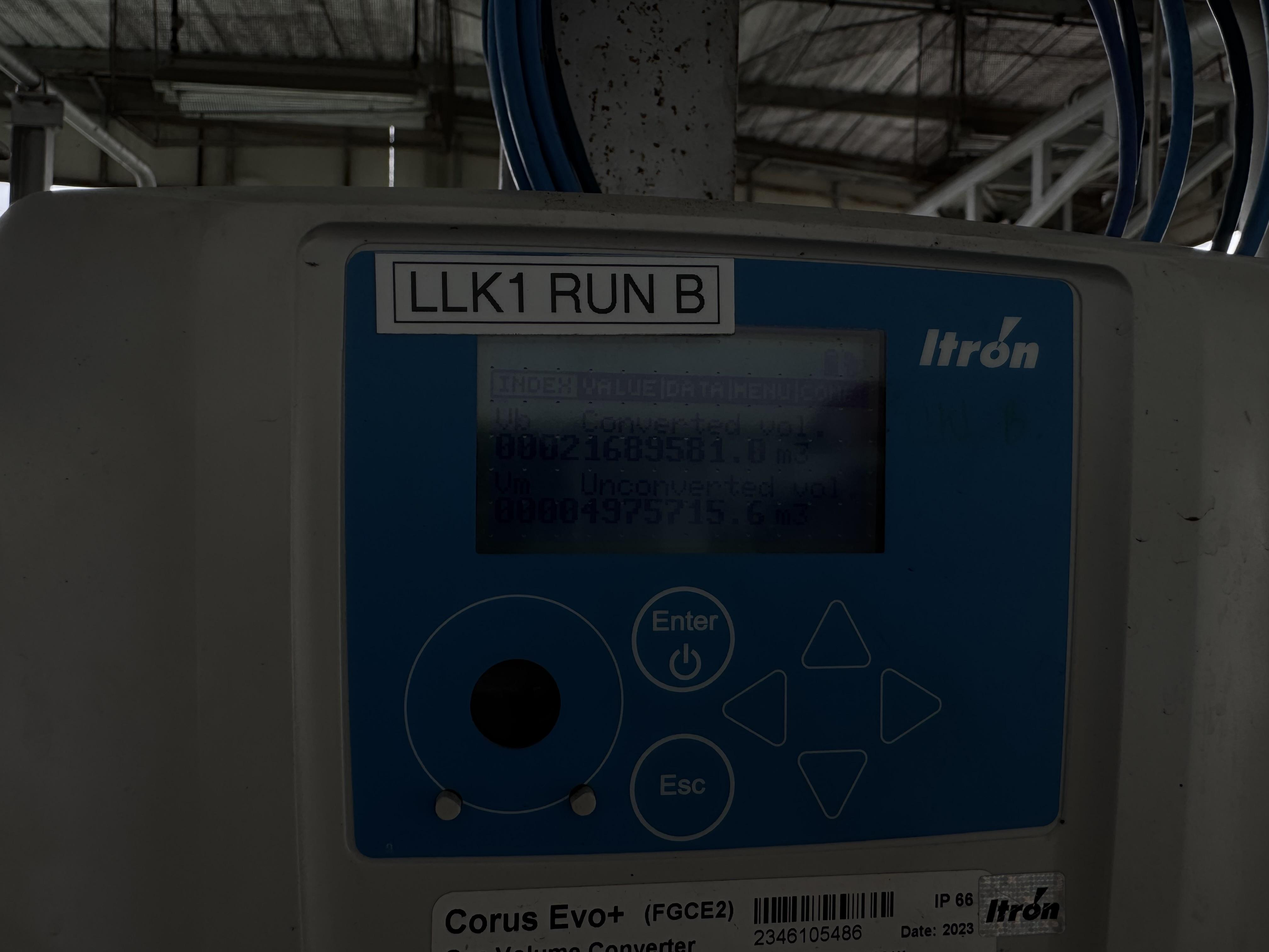digital_screen: (476, 320, 885, 553)
